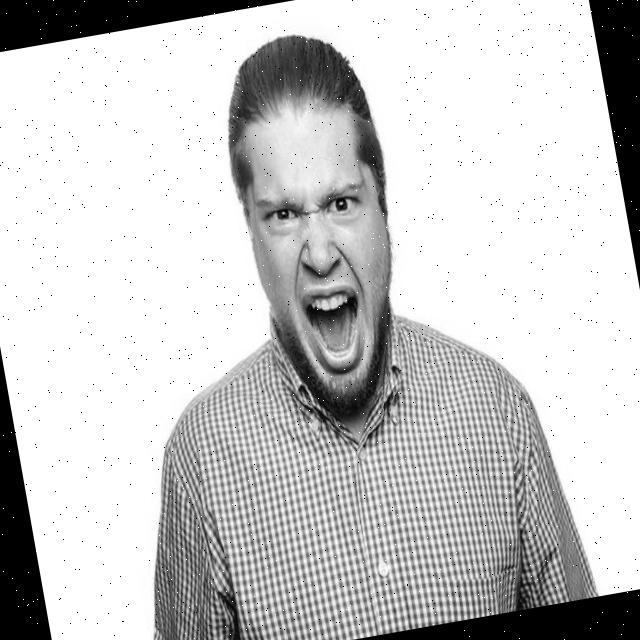Angry: (231, 108, 417, 422)
